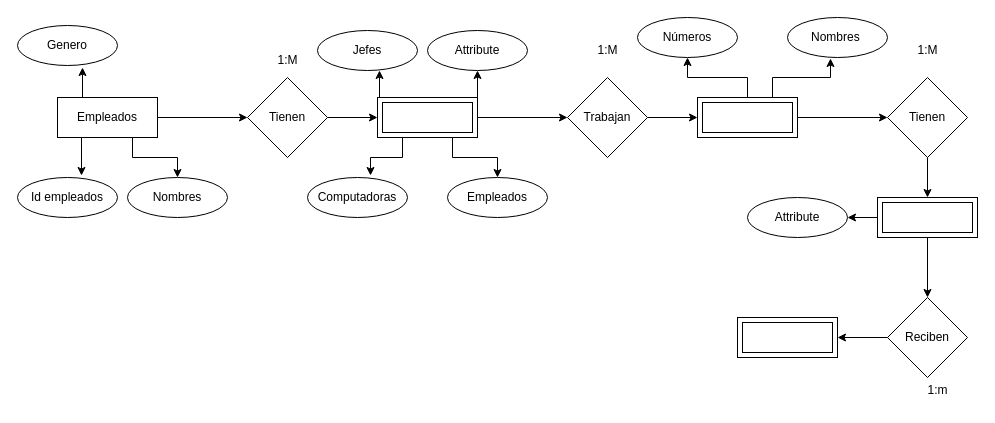
This 995x423 diagram has some shape labels left out. The shapes that lost their labels are listed below. From the top down, each one's centre as x and y in pixels, then its label:
[427,117]: Departamento
[747,117]: Cargos
[927,217]: Jefe inmediato
[787,337]: Salarios
